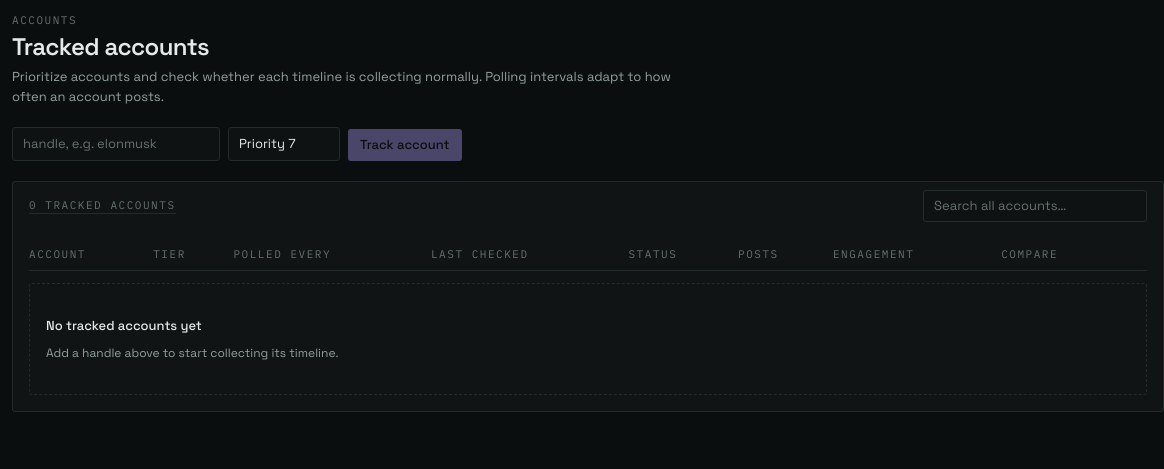
Test: tracking a new account › confirms the queued fetch and clears the input
This screenshot has width=1164, height=469.
expect the button "Track account" is shown: met, box [348,128,462,160]
Step 1. Type "elonmusk" into the field named "Account handle" → [116, 144], box [12,126,220,160]
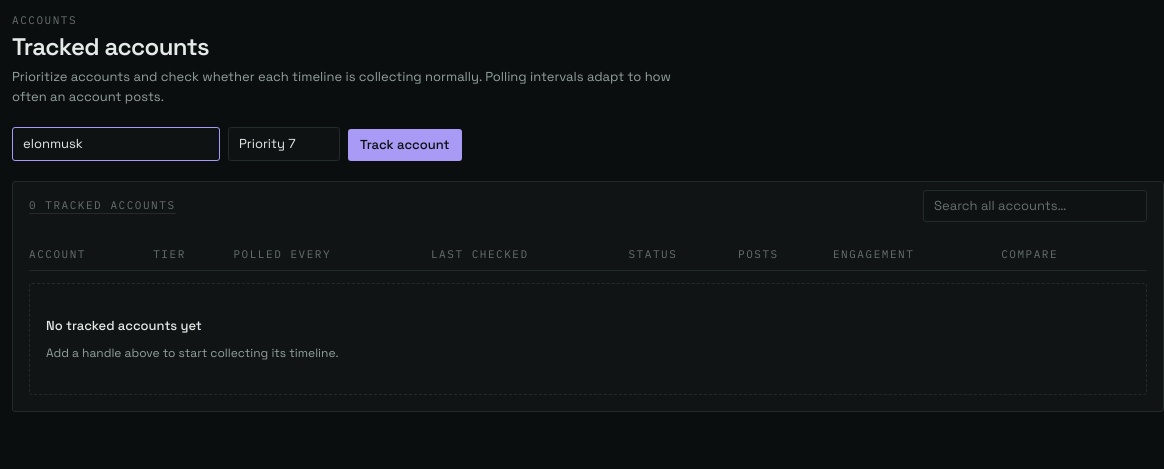
Step 2. Click the button "Track account" → [405, 144], box [348,128,462,160]
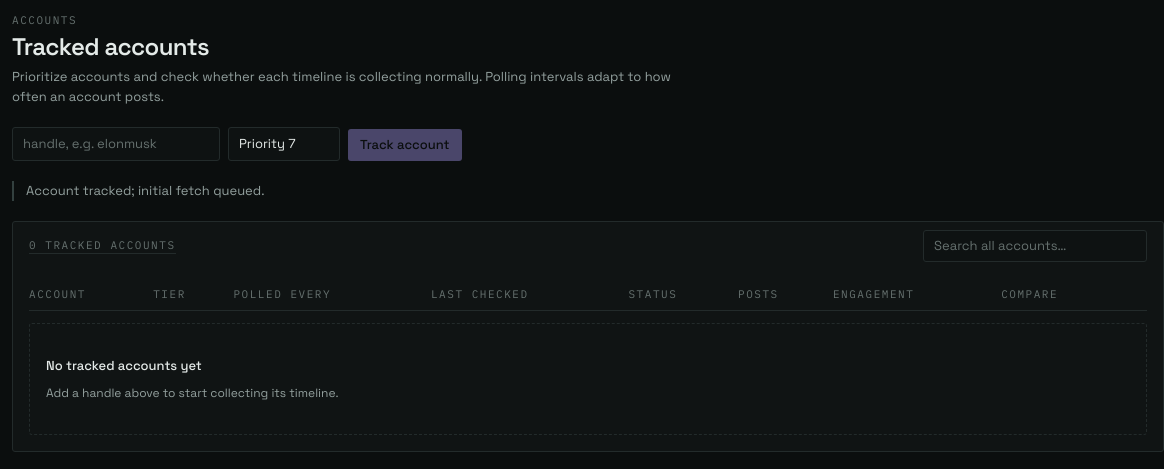
expect the text "Account tracked; initial fetch queued." is shown: met, box [12,180,1163,200]
expect the field named "Account handle" is empty: met, box [12,126,220,160]
